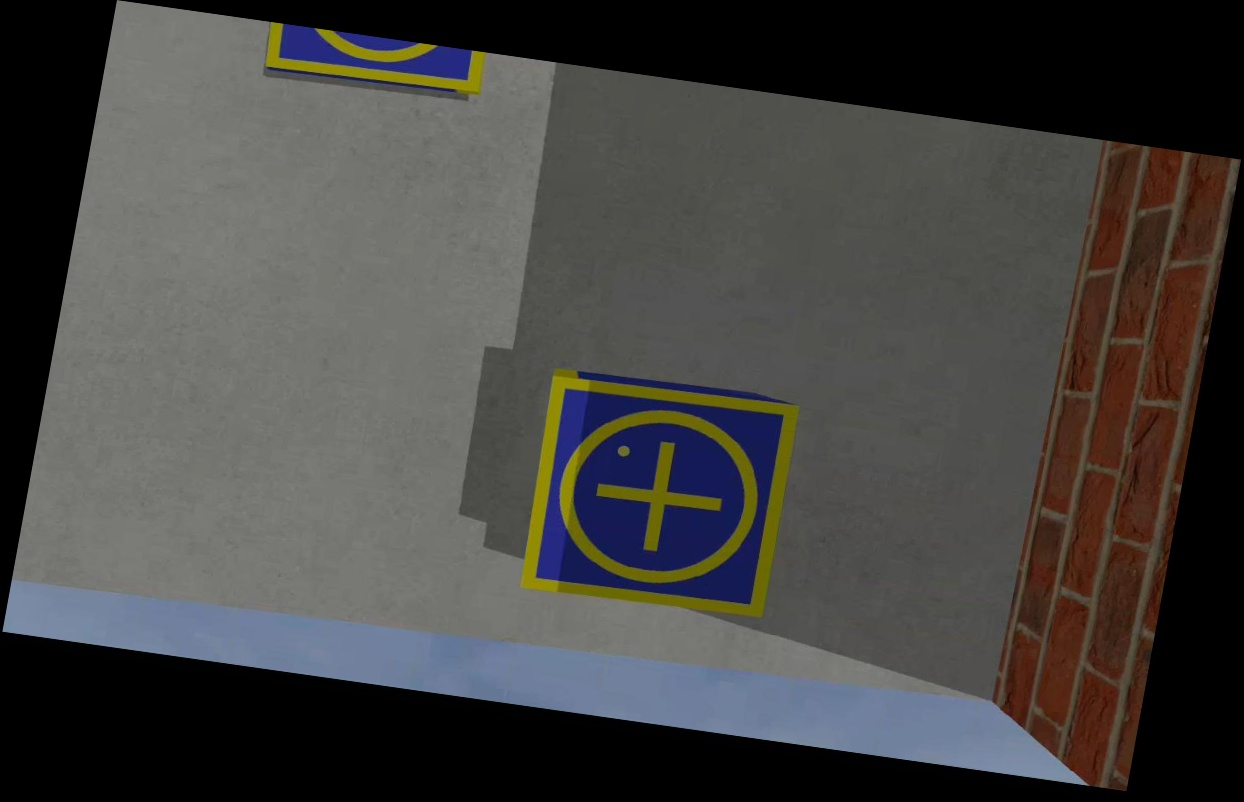small_base: (514, 373, 797, 625), (259, 22, 487, 101)
